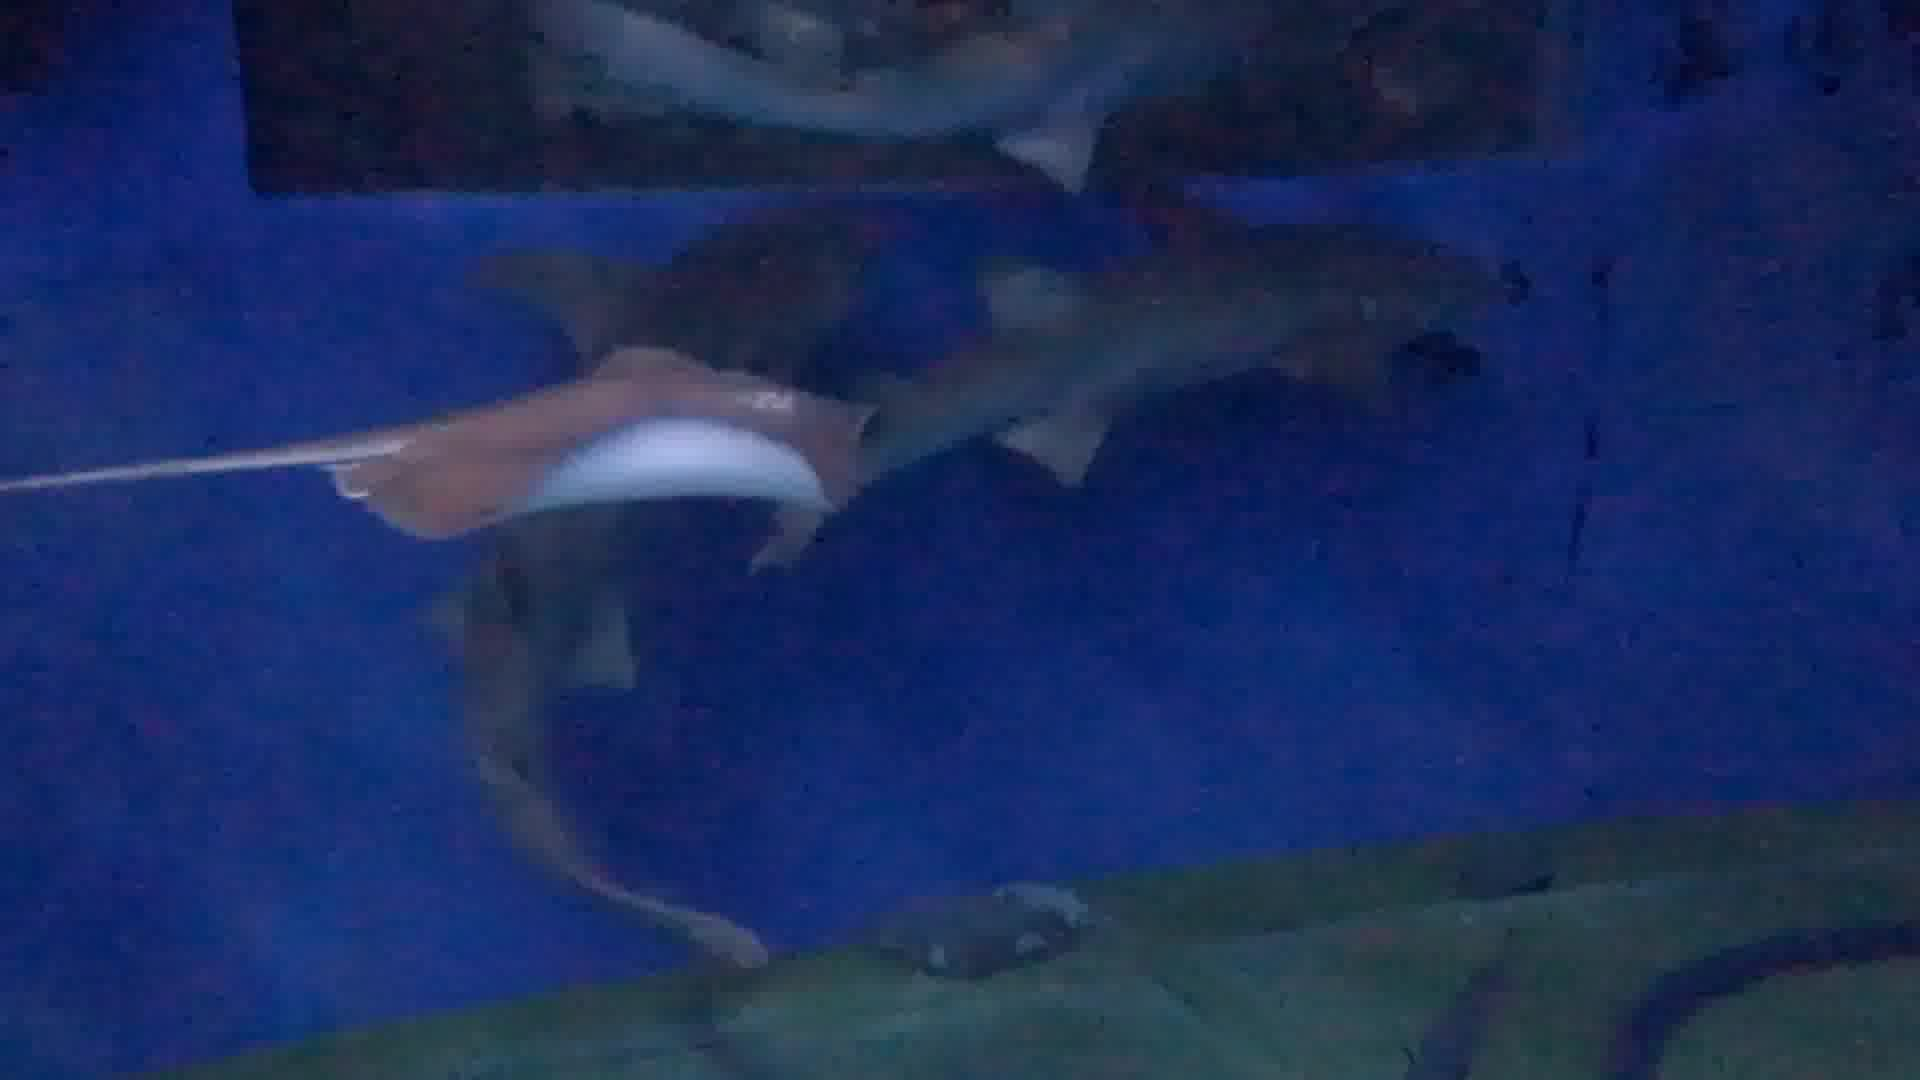Nebrius ferrugineus: (819, 193, 1509, 448)
